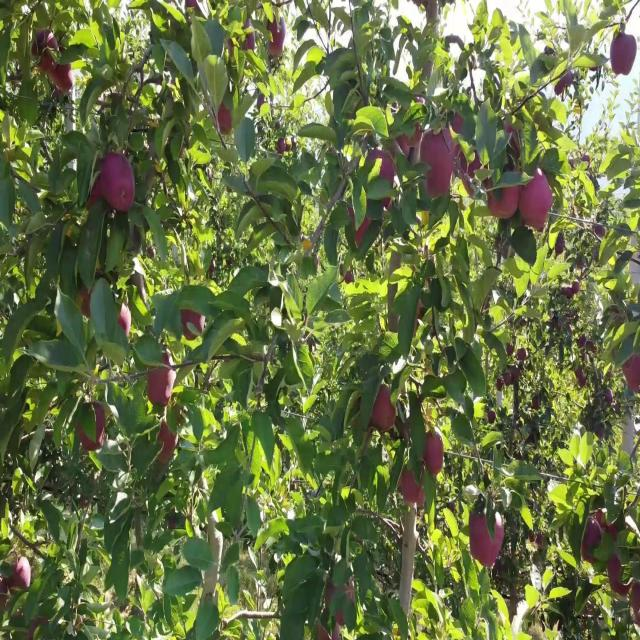apple: (420, 127, 455, 199), (100, 149, 136, 215), (520, 170, 553, 233), (368, 149, 397, 212), (424, 142, 456, 199), (584, 511, 619, 562), (468, 511, 504, 560), (76, 405, 107, 455), (32, 28, 59, 76), (372, 383, 397, 434), (488, 184, 520, 222), (148, 362, 175, 407), (612, 35, 640, 78), (328, 583, 356, 626), (228, 21, 256, 62), (588, 511, 619, 548), (368, 149, 397, 188), (400, 469, 426, 510), (608, 554, 631, 599), (156, 419, 178, 466), (424, 433, 444, 476), (444, 113, 464, 156), (84, 177, 106, 215), (180, 312, 205, 343), (504, 120, 523, 160), (52, 63, 75, 96), (460, 149, 481, 185), (584, 526, 603, 565), (420, 135, 443, 167), (268, 21, 287, 59), (444, 113, 464, 149), (472, 547, 501, 569), (12, 561, 32, 592), (624, 355, 640, 393), (408, 120, 424, 153), (216, 106, 233, 137), (556, 71, 575, 98), (80, 284, 93, 320), (448, 113, 464, 142), (396, 135, 414, 160), (356, 220, 372, 247), (412, 120, 425, 153), (28, 618, 49, 638), (120, 305, 132, 336), (632, 583, 640, 629), (320, 618, 336, 639), (528, 533, 544, 549), (576, 369, 588, 389), (516, 348, 528, 363), (488, 412, 496, 427), (532, 398, 540, 412), (4, 583, 9, 603)
